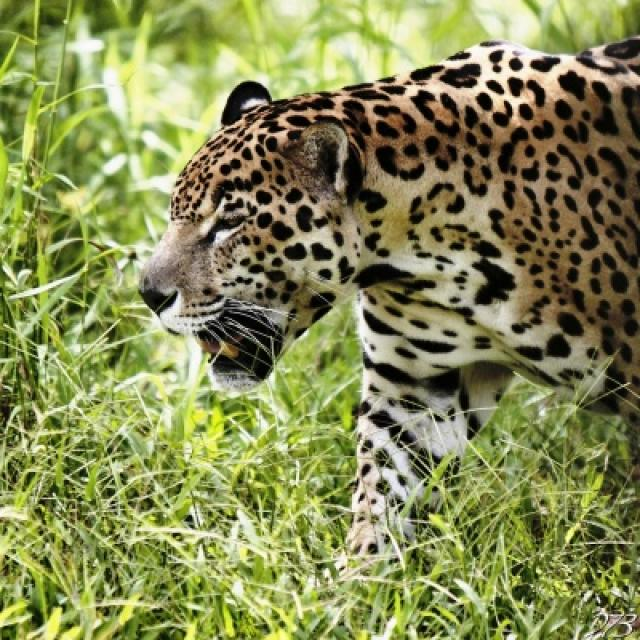Jaguar: (139, 35, 638, 562)
